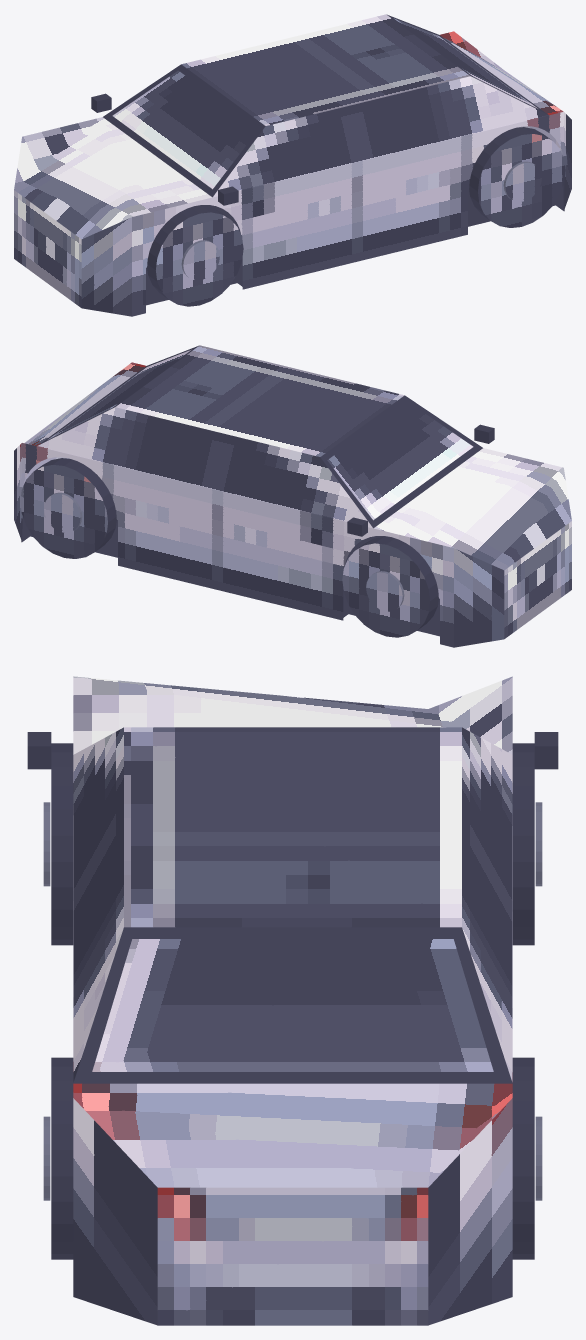
The model's file is car-20-v1.glb.
The picture shows the model from 3 angles, top to bottom: view 1: azimuth 30°, elevation 25°; view 2: azimuth 150°, elevation 25°; view 3: azimuth 270°, elevation 25°; orthographic projection. The views are drawn at different scales.
Parts seen in each view (by area): view 1: Passenger-body-west, Roof, Cabin-windows-west, Hood, Windshield-glass, Tire_RL, Tire_FL, Front-fascia, Front-corner--1, Windshield-frame, Trunk, Rear-window-glass (+7 smaller); view 2: Passenger-body-east, Roof, Cabin-windows-east, Hood, Windshield-glass, Tire_RR, Tire_FR, Front-fascia, Front-corner-1, Windshield-frame, Trunk, Rear-window-glass (+7 smaller); view 3: Roof, Rear-window-glass, Trunk, Rear-fascia, Hood, Rear-corner-1, Rear-corner--1, Cabin-windows-east, Cabin-windows-west, Rear-window-frame, Tire_FL, Tire_FR (+4 smaller).
Boxes of the visible parts, box(x1,y1,x2,y2) form: Passenger-body-west: box(132, 112, 564, 316); Roof: box(181, 14, 470, 125); Cabin-windows-west: box(213, 76, 548, 197); Hood: box(14, 117, 211, 239); Windshield-glass: box(112, 70, 258, 189); Tire_RL: box(469, 127, 565, 227); Tire_FL: box(147, 205, 243, 306); Front-fascia: box(14, 190, 81, 307); Front-corner--1: box(81, 217, 131, 316); Windshield-frame: box(103, 64, 265, 197); Trunk: box(440, 31, 563, 115); Rear-window-glass: box(394, 18, 537, 108); Passenger-body-east: box(21, 443, 453, 647); Roof: box(115, 345, 404, 456); Cabin-windows-east: box(37, 407, 372, 528); Hood: box(374, 448, 571, 570); Windshield-glass: box(327, 401, 473, 520); Tire_RR: box(20, 458, 116, 558); Tire_FR: box(342, 536, 438, 637); Front-fascia: box(504, 521, 571, 638); Front-corner-1: box(454, 548, 504, 647); Windshield-frame: box(320, 395, 482, 528); Trunk: box(24, 362, 145, 446); Rear-window-glass: box(48, 349, 191, 439); Roof: box(124, 727, 461, 927); Rear-window-glass: box(92, 939, 493, 1071); Trunk: box(73, 1083, 512, 1187); Rear-fascia: box(157, 1187, 428, 1325); Hood: box(73, 676, 512, 754); Rear-corner-1: box(428, 1098, 512, 1325); Rear-corner--1: box(73, 1098, 157, 1325); Cabin-windows-east: box(462, 727, 512, 1082); Cabin-windows-west: box(73, 727, 123, 1082); Rear-window-frame: box(73, 927, 512, 1083); Tire_FL: box(51, 743, 73, 945); Tire_FR: box(512, 743, 534, 945).
Size of the model in its own units: 67 by 19 by 31.4.
Materials: 1 (1 with a texture image).
